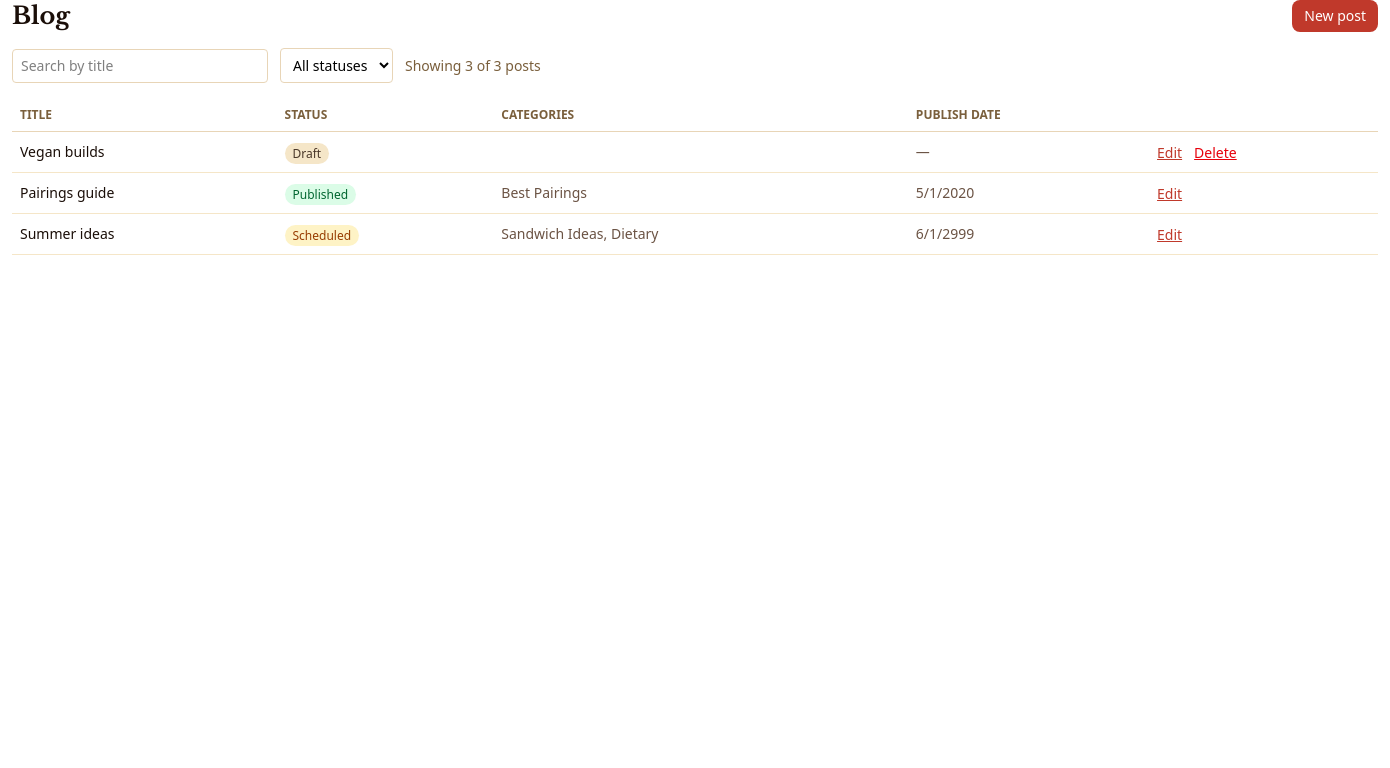
Test: BlogManagementPage creating a post › defaults the byline to the site name
The width and height of the screenshot is (1390, 768).
Check: the text "Vegan builds" is shown, box [12, 132, 276, 172]
Click the button "New post": (1335, 16) [1292, 0, 1378, 32]
(page scrolled)
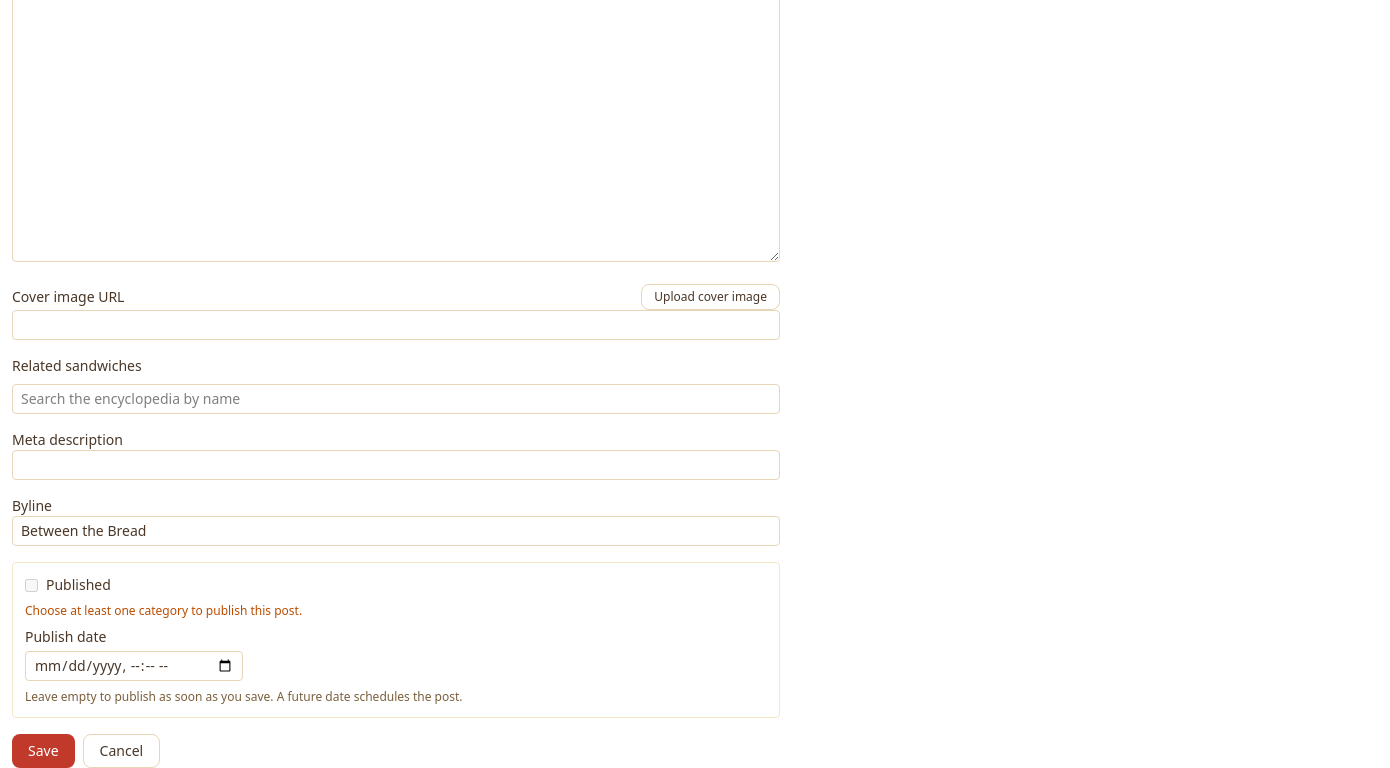
Check: the field labelled "Byline" holds "Between the Bread", box [12, 516, 780, 546]
